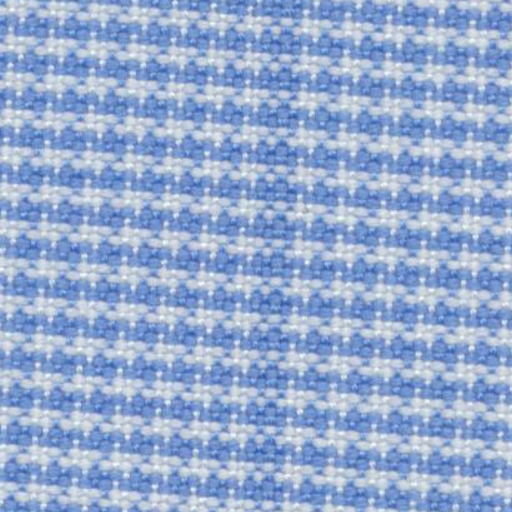TuoSha: (206, 3, 324, 502)
